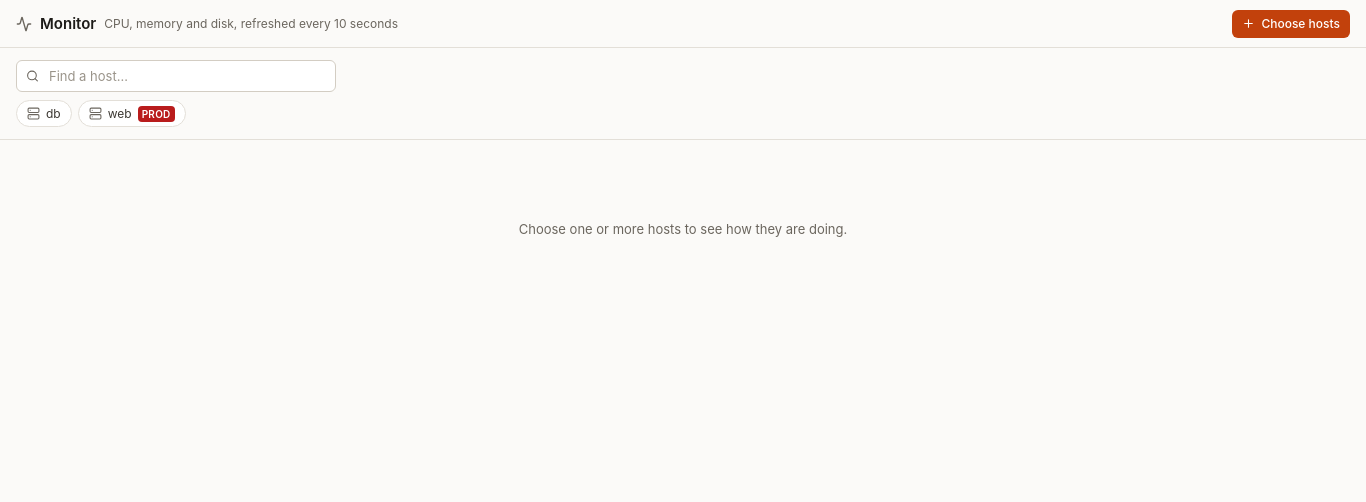
MonitorView › starts with the host picker and shows a card with CPU, memory, disk and processes for a chosen host
The image size is (1366, 502).
Expected: the text "Choose one or more hosts to see how they are doing." is shown, [519, 221, 847, 237]
Click the button "web PROD": x=132, y=114 [78, 100, 186, 127]
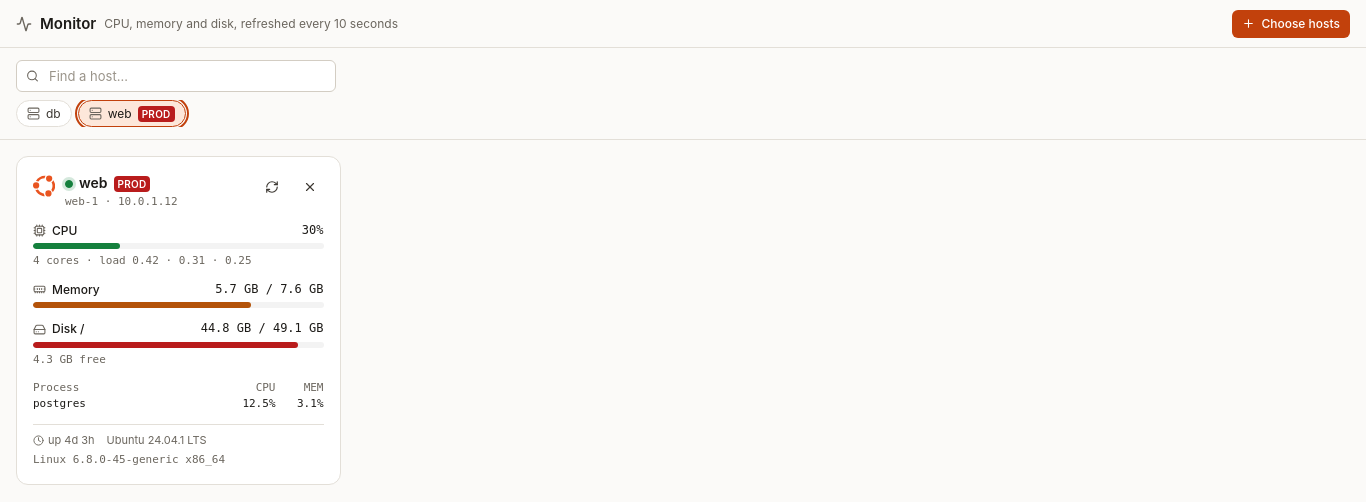
Expected: the text "web-1 · 10.0.1.12" is shown, [65, 195, 178, 208]
Expected: the text "4 cores · load 0.42 · 0.31 · 0.25" is shown, [33, 254, 252, 267]
Expected: the text "5.7 GB / 7.6 GB" is shown, [215, 281, 324, 298]
